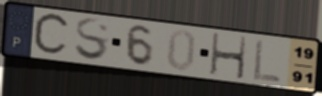0: (165, 28, 199, 73)
6: (125, 23, 156, 68)
C: (31, 11, 73, 58)
H: (209, 31, 249, 81)
L: (251, 38, 284, 85)
S: (73, 17, 112, 63)
